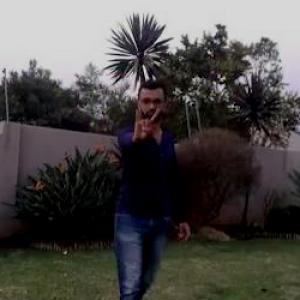takeoff-hand: (126, 101, 167, 149)
